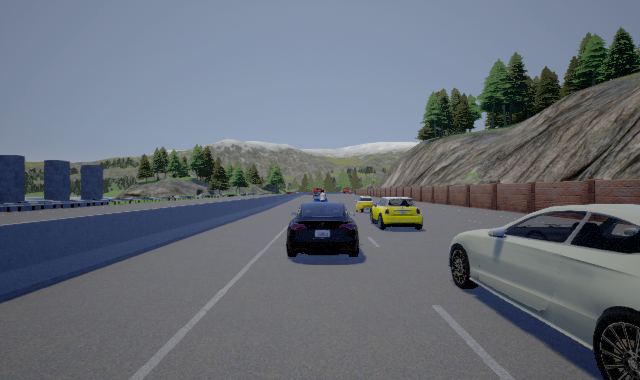vehicle: (448, 204, 640, 380), (286, 203, 359, 257), (370, 195, 423, 230), (356, 198, 375, 214)
